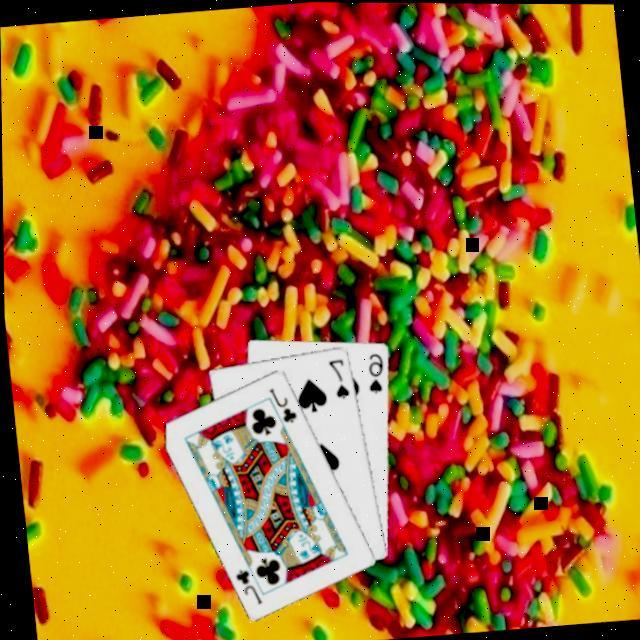6S: (362, 350, 390, 398)
7S: (324, 355, 353, 403)
JC: (230, 564, 267, 610), (264, 383, 301, 428)
